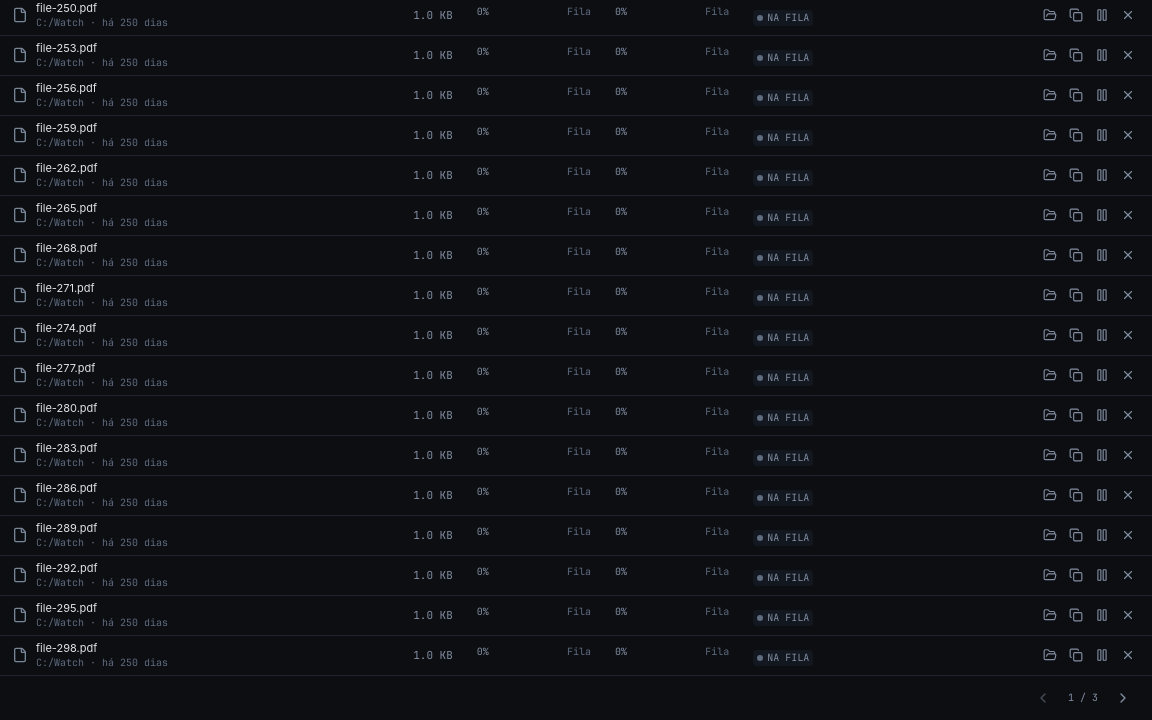
Test: JobTable pagination › 'próxima' advances offset by 50 each click, disabling on the last page
(page scrolled)
expect the text "1 / 3" is shown: met, box [1068, 691, 1098, 705]
Click the button named "Próxima página" at (1123, 698), box [1106, 684, 1140, 712]
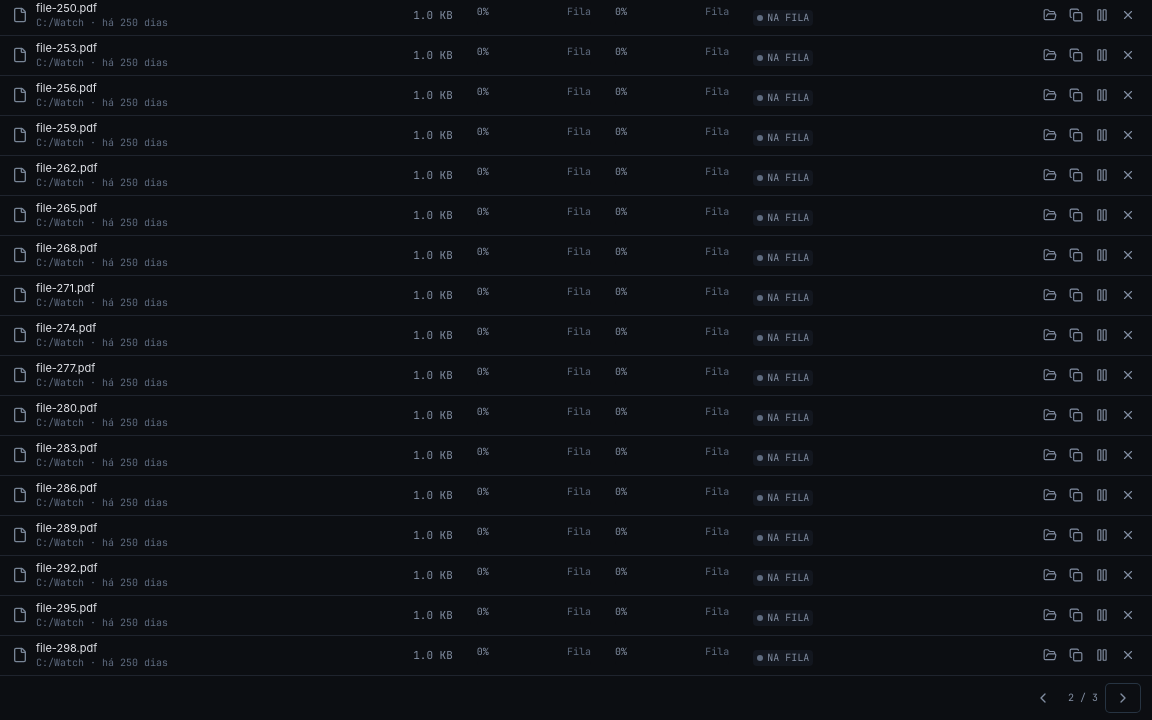
expect the text "2 / 3" is shown: met, box [1068, 691, 1098, 705]
Click the button named "Próxima página" at (1123, 698), box [1106, 684, 1140, 712]
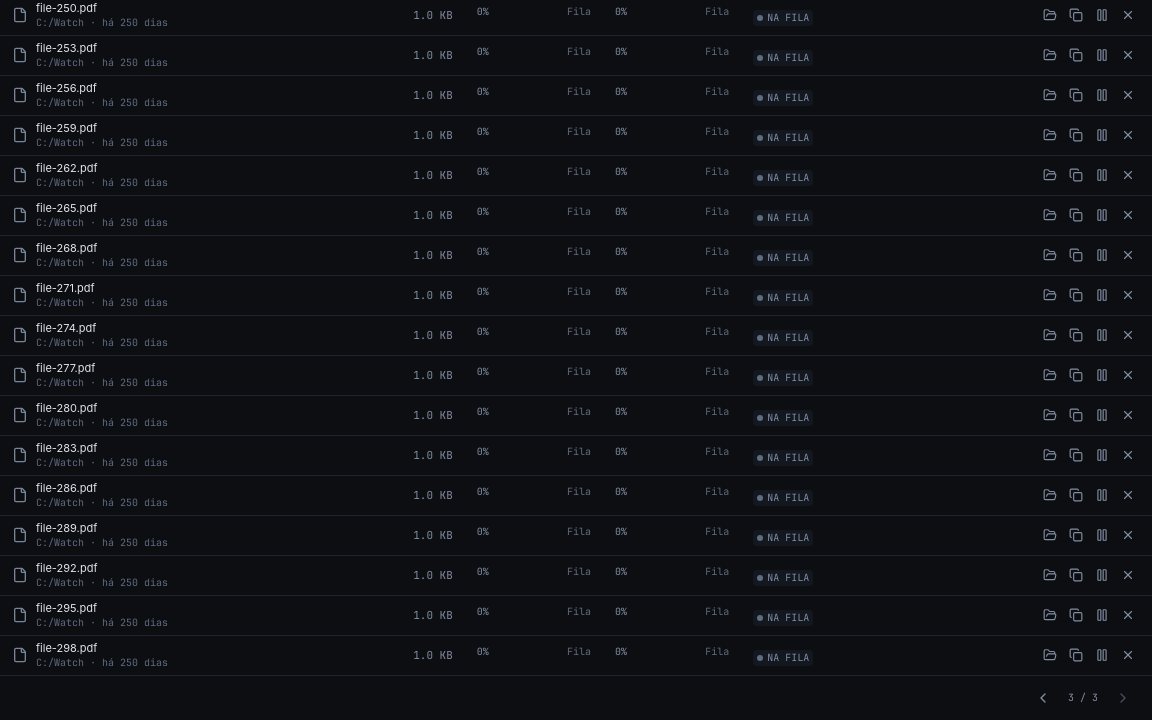
expect the text "3 / 3" is shown: met, box [1068, 691, 1098, 705]
